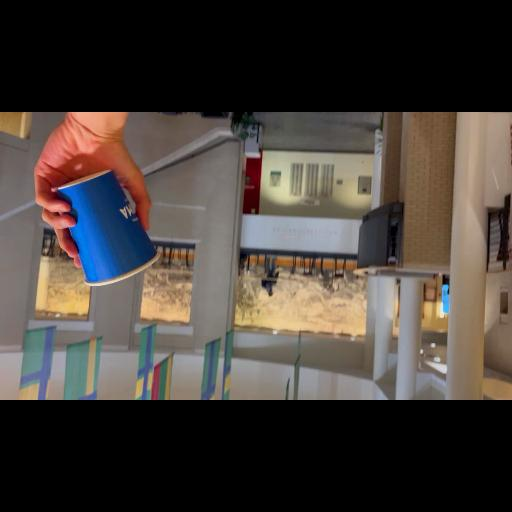lp_paper_cup: (54, 168, 160, 286)
